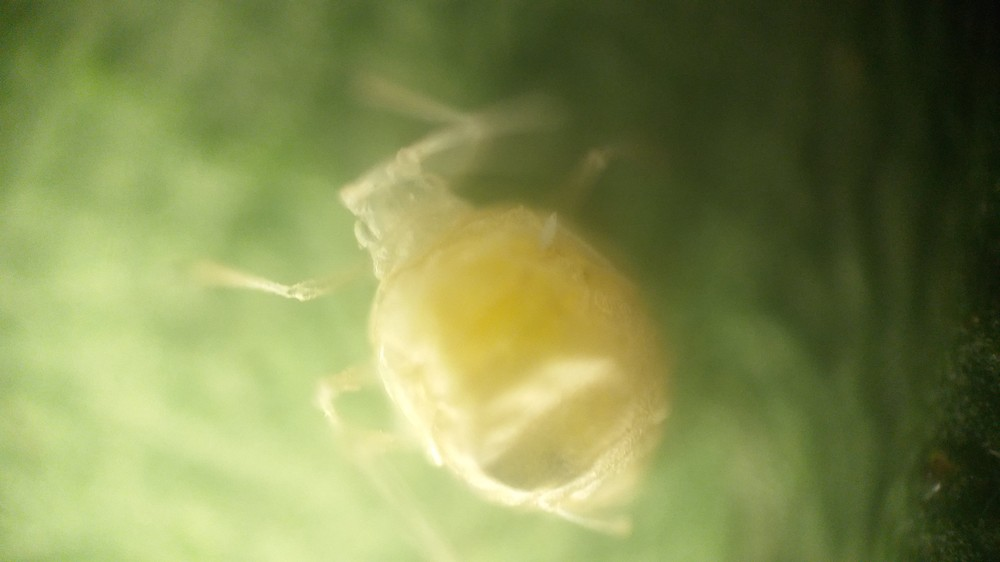Pulgon: (160, 62, 745, 558)
